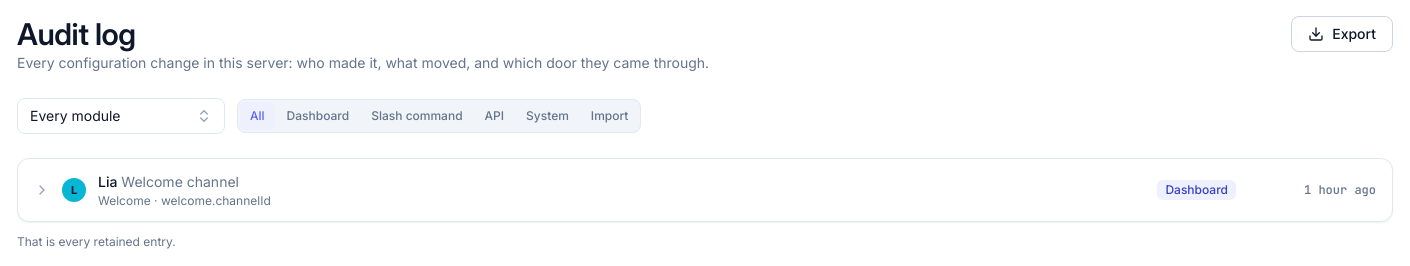
Scenario: AuditScreen › replaces the list when a filter changes, rather than appending to it
Click the dropdown: (121,116) [17,98,225,134]
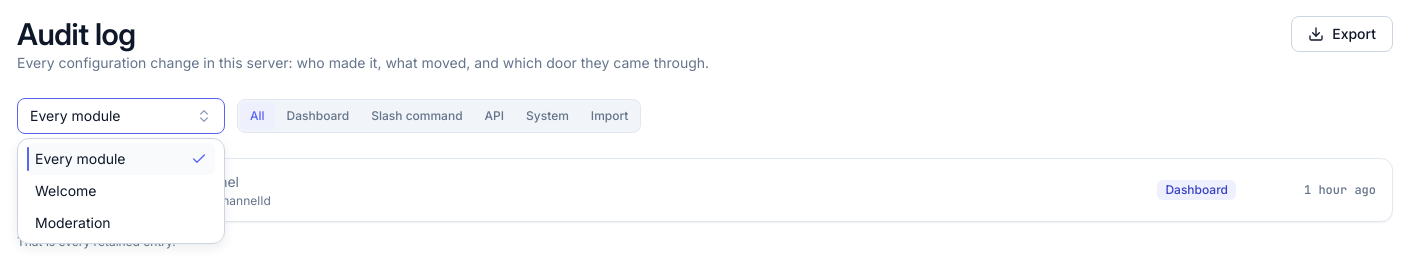
Click the option "Moderation": (73,222) [35,214,110,231]
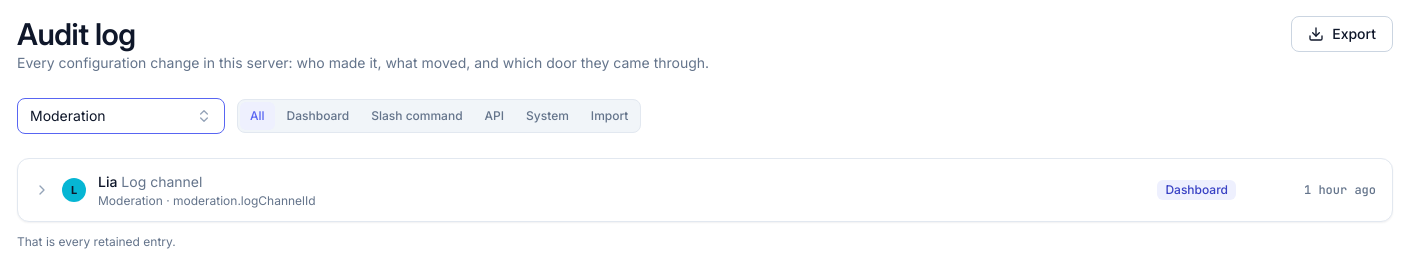
Now the text "Log channel" is shown, box [121,173,202,190]
Now the button "Welcome channel" is gone
